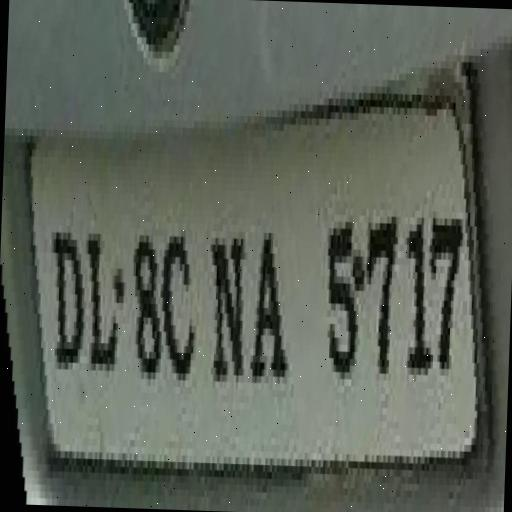number plate: (0, 39, 491, 492)
